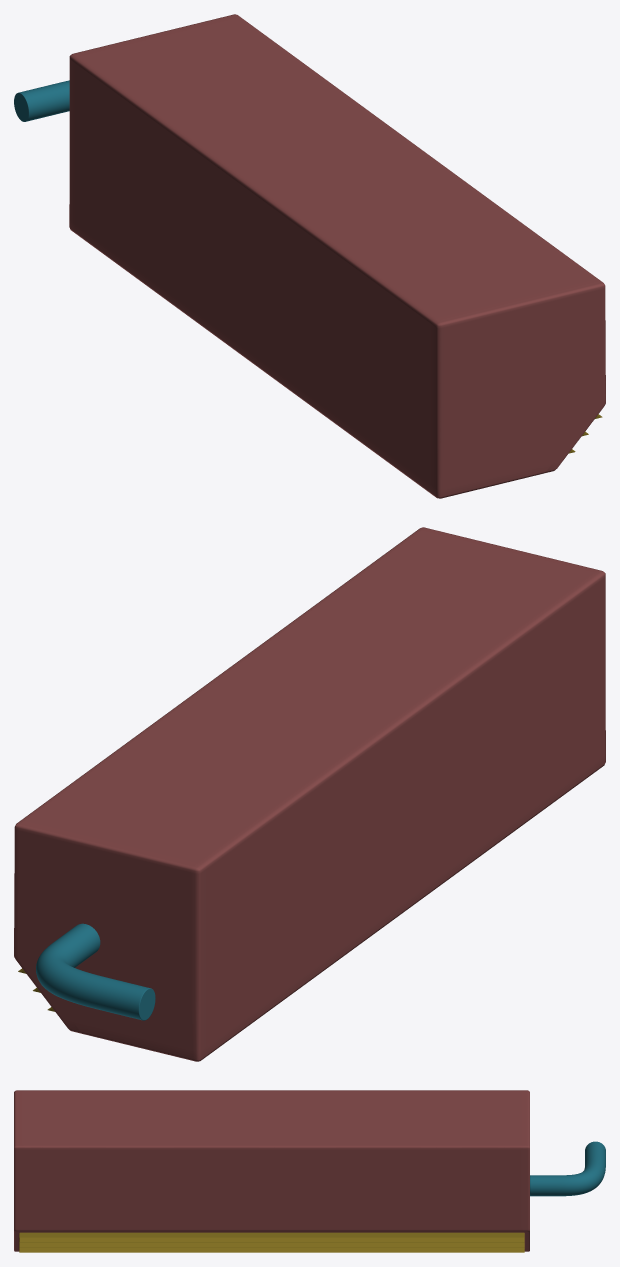
File: Airconditioning1.fbx
3 views of the same model, one above another, from view 1: azimuth 30°, elevation 25°; view 2: azimuth 150°, elevation 25°; view 3: azimuth 270°, elevation 25° (orthographic). The views are drawn at different scales.
Parts seen in each view (by area): view 1: ACUnit_High, ACElectrical_High; view 2: ACUnit_High, ACElectrical_High; view 3: ACUnit_High, ACFin1_High, ACFin2_High, ACFIn3_High, ACElectrical_High.
Boxes of the visible parts, <box> form: ACUnit_High: <box>69,14,605,498</box>; ACElectrical_High: <box>14,80,69,121</box>; ACUnit_High: <box>14,527,605,1061</box>; ACElectrical_High: <box>36,923,155,1020</box>; ACUnit_High: <box>14,1090,529,1251</box>; ACFin1_High: <box>19,1232,524,1241</box>; ACFin2_High: <box>19,1242,524,1247</box>; ACFIn3_High: <box>19,1247,524,1252</box>; ACElectrical_High: <box>530,1141,605,1196</box>.
Size of the model in its own units: 1 by 1 by 4.38.
